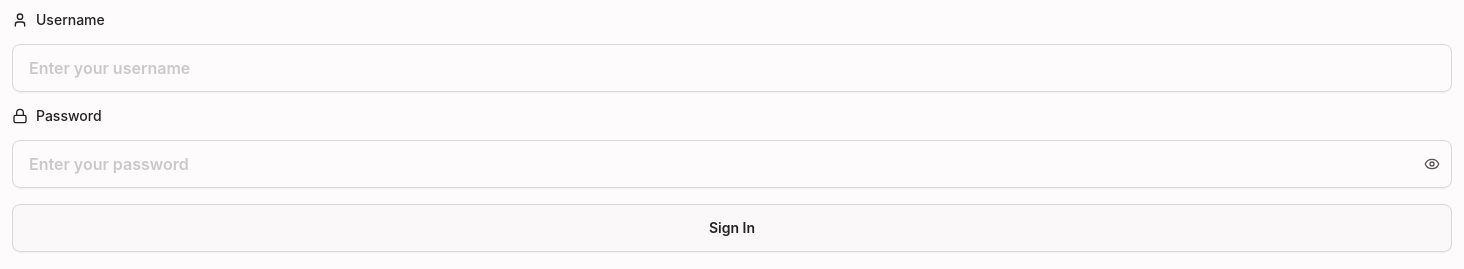
Scenario: auth forms › keeps the login password toggle keyboard-accessible without breaking the field selector
The width and height of the screenshot is (1464, 269).
In the password field labelled "Password": [732, 164] box [12,140,1452,188], type "Password1"
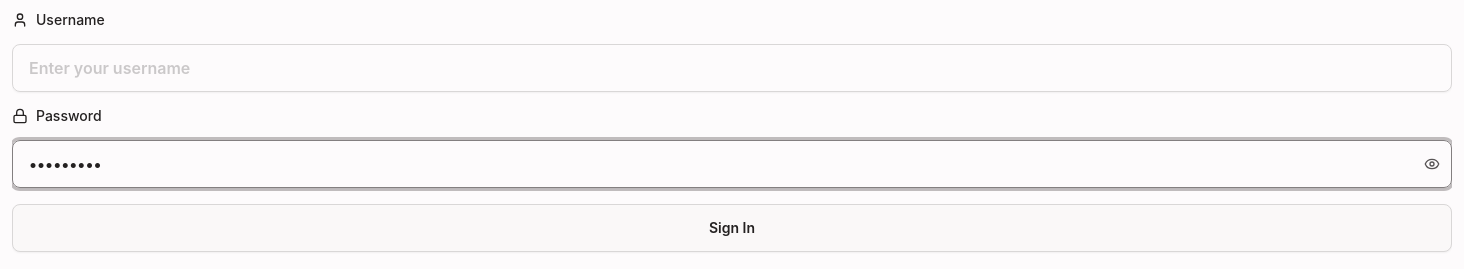
Press Tab
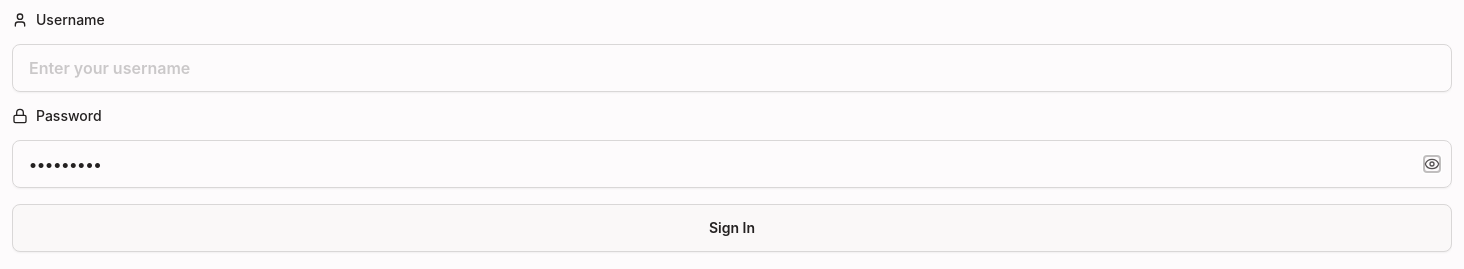
Type keys "[Enter]"
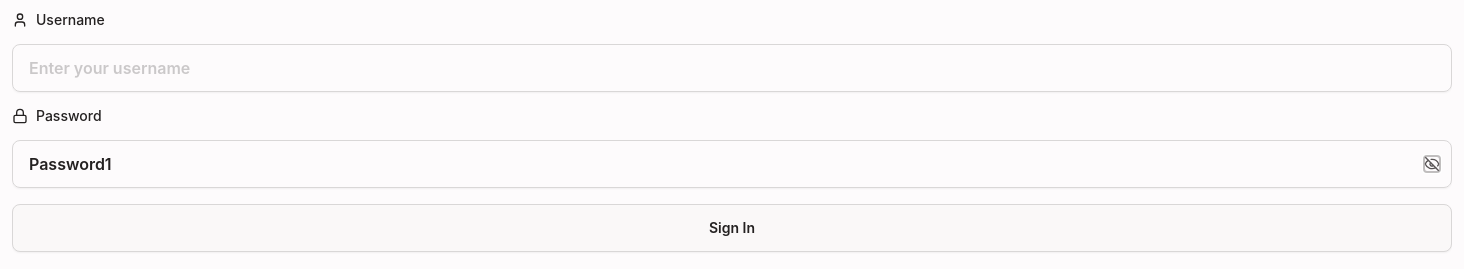
Check: the field labelled "Password" shows its text, box [12,140,1452,188]
